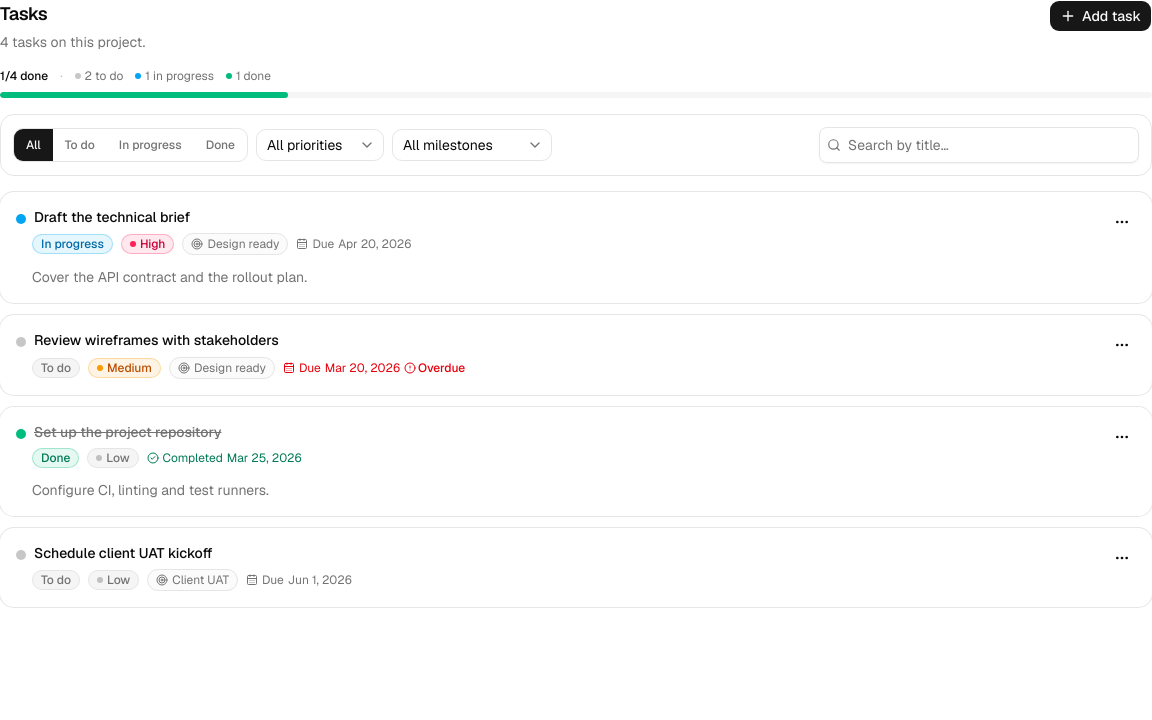
Test: ProjectTasksSection › creates a task and adds it to the list
Click the button "Add task".
click(1100, 16)  # box x1=1049 y1=0 x2=1151 y2=32
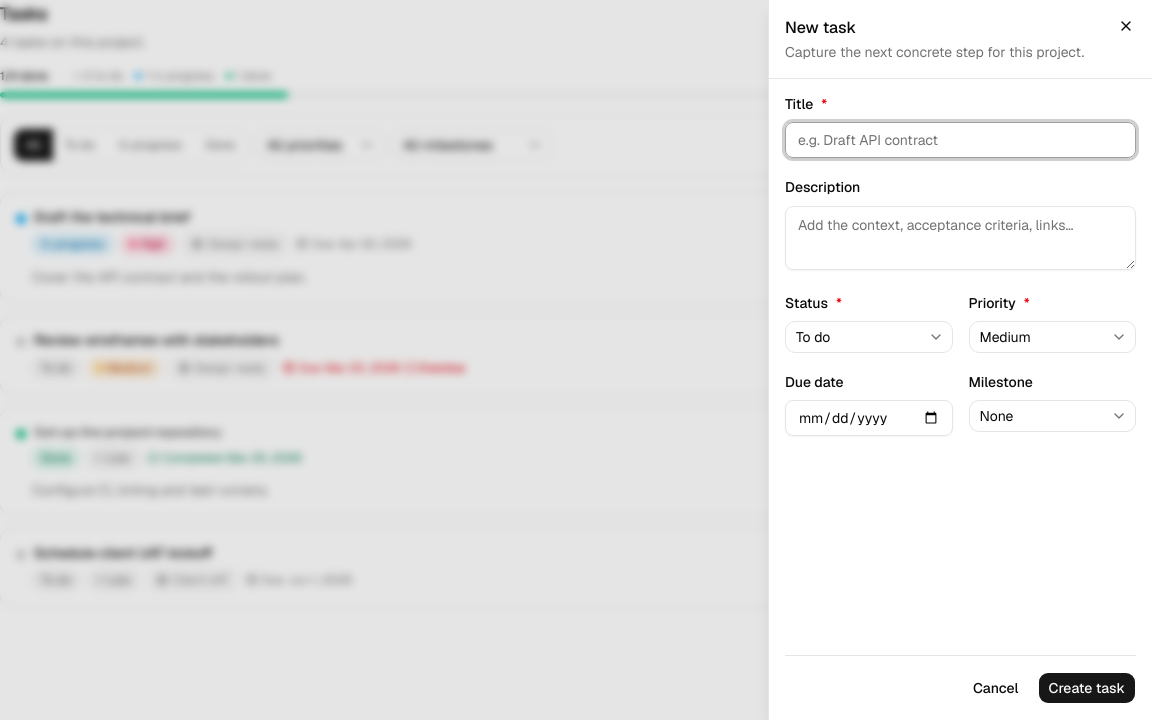
Type "Beta launch checklist" into the field labelled "Title *".
click(960, 140); type("Beta launch checklist")  # box x1=785 y1=122 x2=1136 y2=158
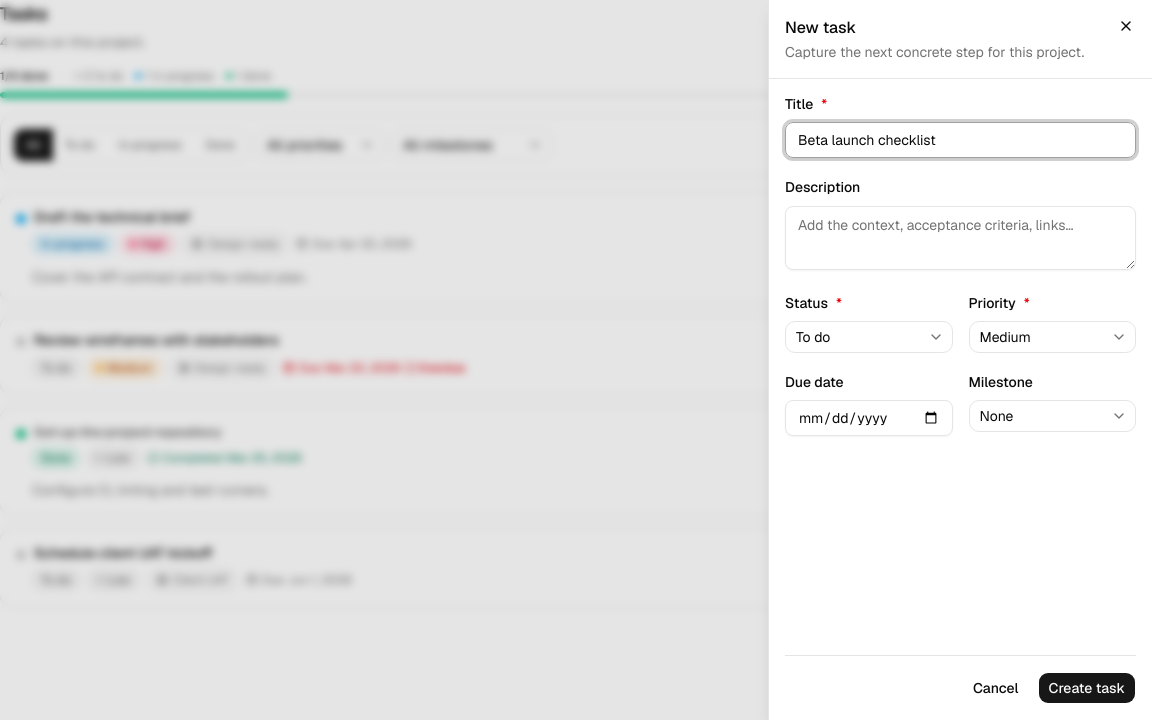
Click the button "Create task".
click(1087, 688)  # box x1=1038 y1=672 x2=1136 y2=704
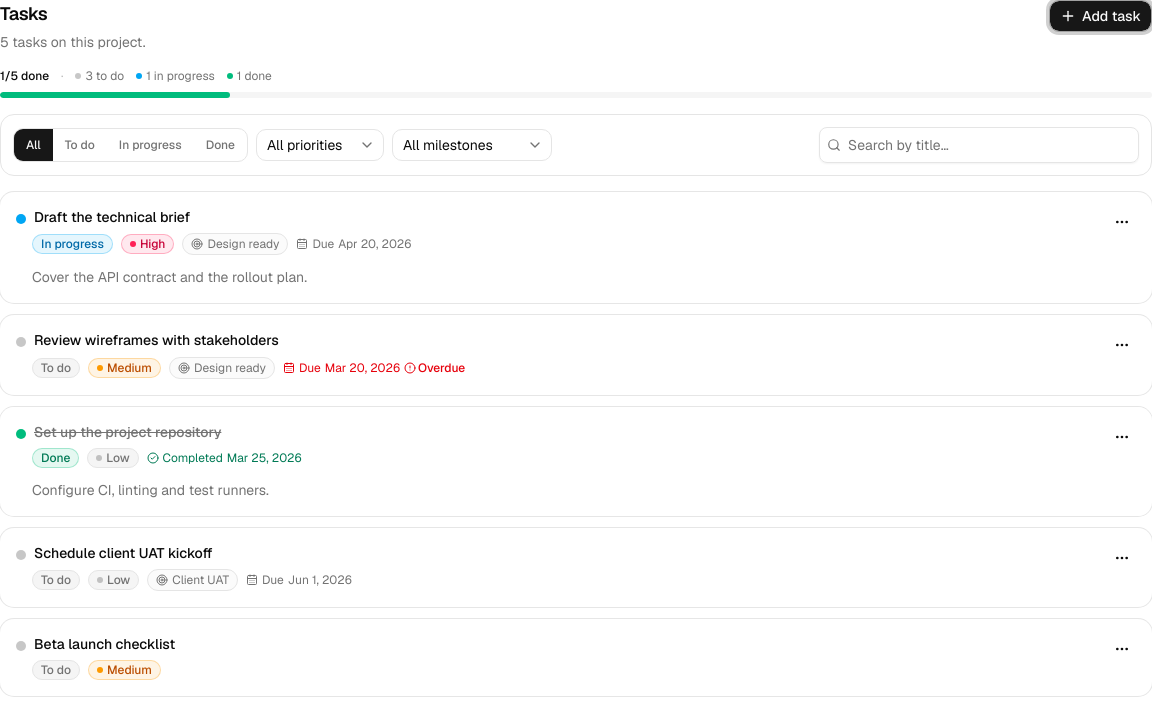
Check: the heading "Beta launch checklist" is shown, box x1=34 y1=635 x2=175 y2=654
Check: the text "5 tasks on this project." is shown, box x1=0 y1=32 x2=146 y2=52
